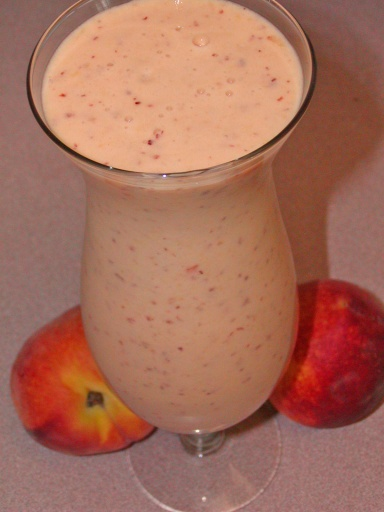background: (5, 0, 230, 366)
